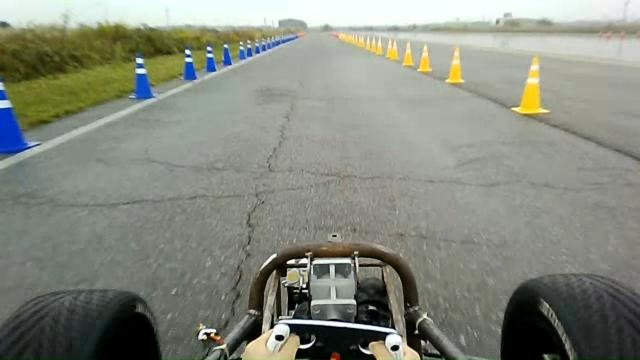blue cone: (0, 78, 41, 153), (128, 52, 155, 100), (180, 47, 198, 80), (205, 44, 217, 72), (222, 42, 232, 66)
yellow cone: (510, 55, 551, 115), (445, 46, 465, 84), (417, 44, 432, 72), (402, 40, 414, 66), (375, 35, 383, 55)
